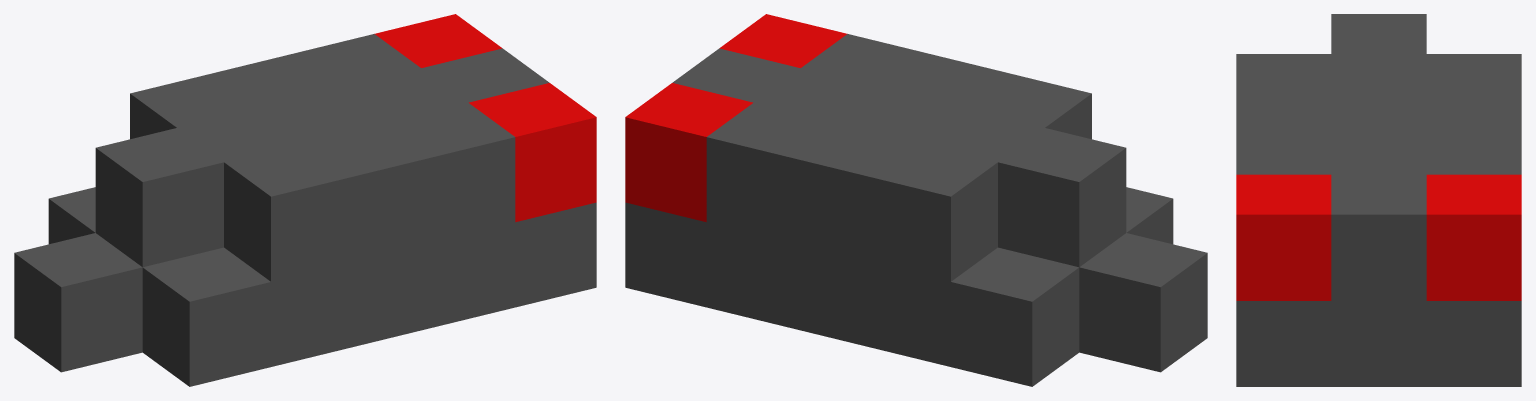
The model's file is bugbody.vox.obj.
The picture shows the model from 3 angles, left to right: view 1: azimuth 30°, elevation 25°; view 2: azimuth 150°, elevation 25°; view 3: azimuth 270°, elevation 25°; orthographic projection.
Size of the model in its own units: 0.6 by 0.2 by 0.3.
1 material, 1 textured.
